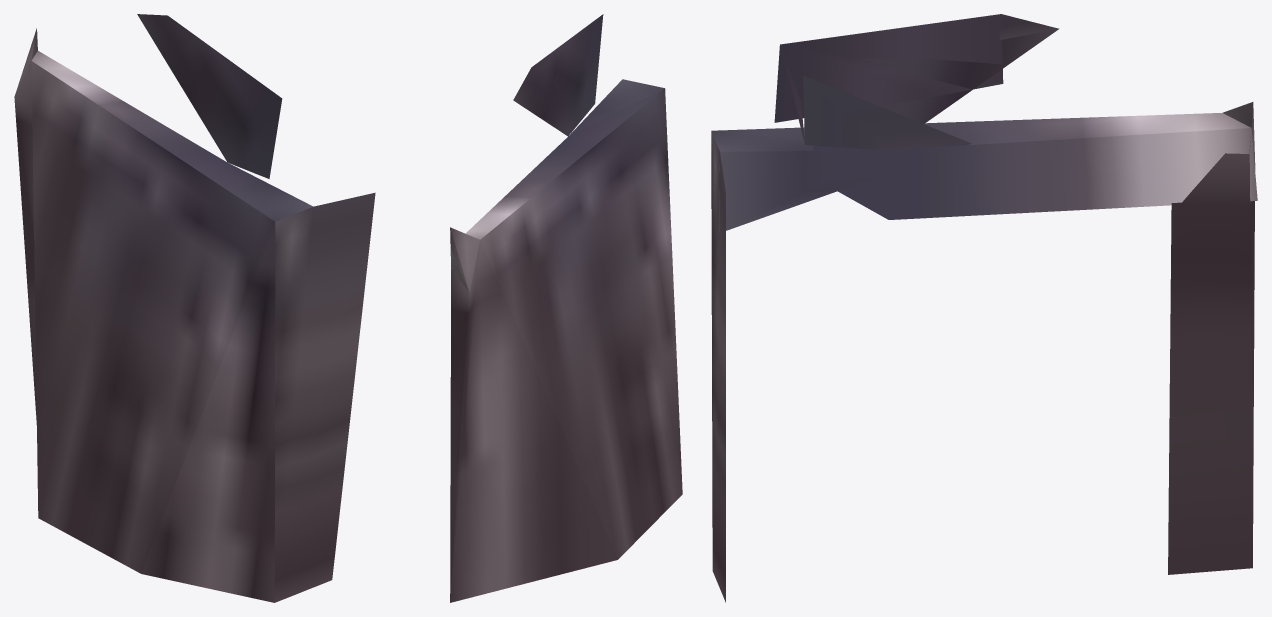
3 views of the same model, side by side, from view 1: azimuth 30°, elevation 25°; view 2: azimuth 150°, elevation 25°; view 3: azimuth 270°, elevation 25° (orthographic). The views are drawn at different scales.
Visible parts, largest first — view 1: Mesh_0; view 2: Mesh_0; view 3: Mesh_0.
Part boxes in pixels (box(x1,y1,x2,y2)): Mesh_0: box(14, 14, 375, 602); Mesh_0: box(450, 14, 682, 602); Mesh_0: box(711, 14, 1257, 602).
Bounding box in the file's own units: 11.57 × 27.29 × 23.75.
Materials: 1 (1 with a texture image).
